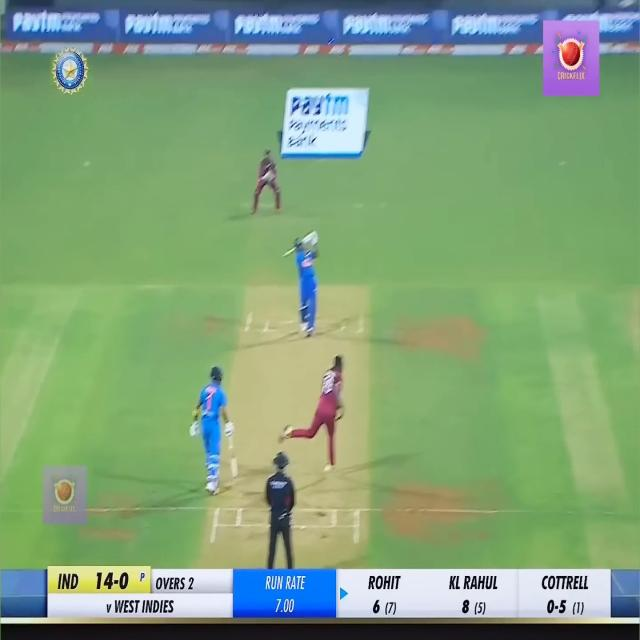fully_visible: (284, 83, 369, 161), (234, 0, 330, 53), (341, 3, 438, 52), (123, 4, 207, 56), (446, 6, 540, 45), (9, 6, 86, 52)
partially_visible: (568, 5, 640, 54)
